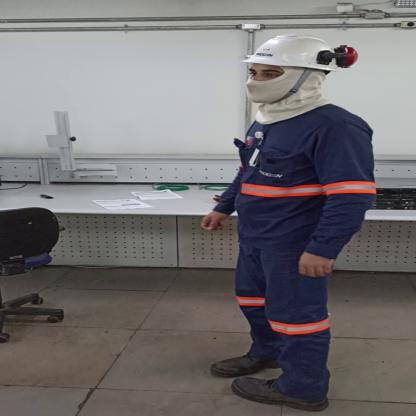Balaclava: (240, 69, 340, 122)
Capacete: (231, 31, 366, 75)
